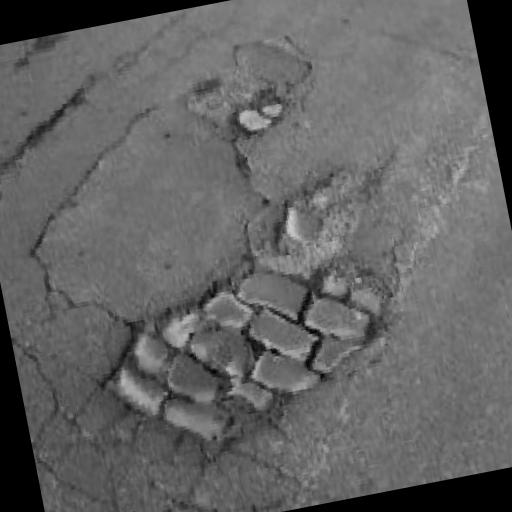pothole: (82, 238, 416, 472), (254, 160, 376, 274), (228, 84, 290, 138)
